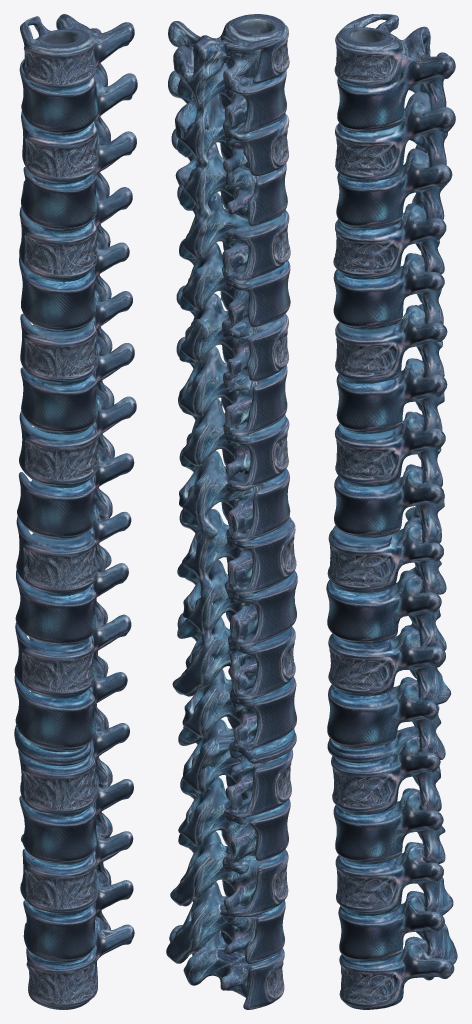
Rendered from spinestaright-optimized.glb.
The picture shows the model from 3 angles, left to right: view 1: azimuth 30°, elevation 25°; view 2: azimuth 150°, elevation 25°; view 3: azimuth 330°, elevation 25°; orthographic projection.
Visible parts, largest first — view 1: mesh_node; view 2: mesh_node; view 3: mesh_node.
Part boxes in pixels (x1,y1,x2,y2): mesh_node: [14, 14, 137, 1009]; mesh_node: [166, 14, 297, 1009]; mesh_node: [326, 14, 457, 1009].
Size of the model in its own units: 0.2396 by 1.9 by 0.1824.
Materials: 1 (1 with a texture image).
